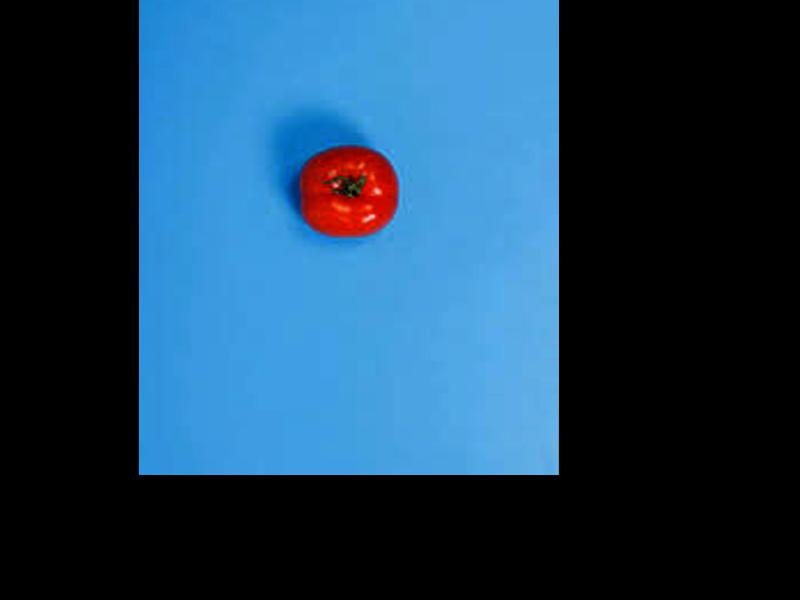Tomato: (299, 142, 400, 236)
